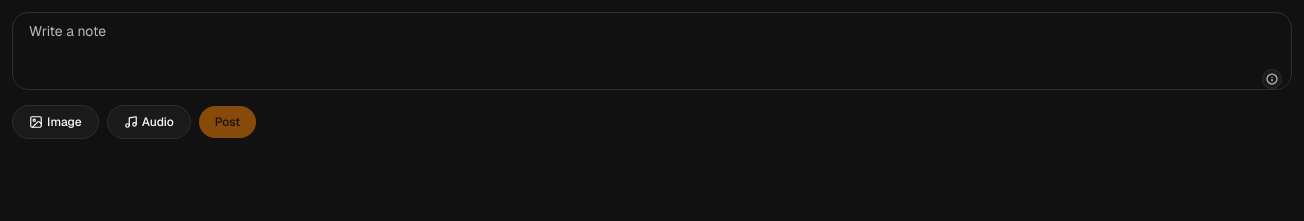
Test: CommentInput (issue mention picker) › renders the issue picker when textarea contains an active @issue mention
The image size is (1304, 221).
Step 1. Type "See @i" into the text box with placeholder "Write a note" → (652, 51), box [12,12,1292,90]
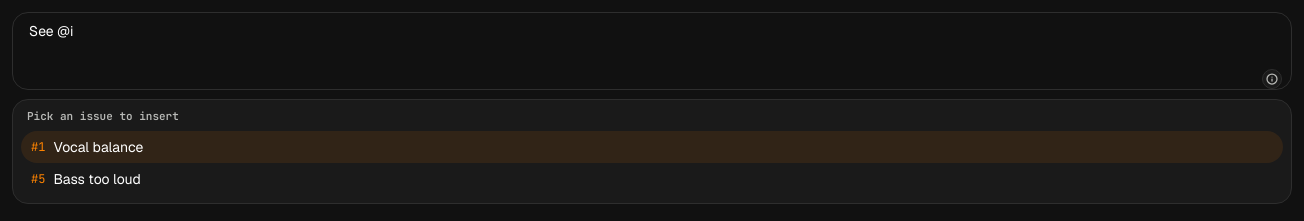
Check: the number of options is 2, box [21,130,1283,162]; [31,170,141,188]
Check: the option "#1 Vocal balance" is shown, box [21,130,1283,162]
